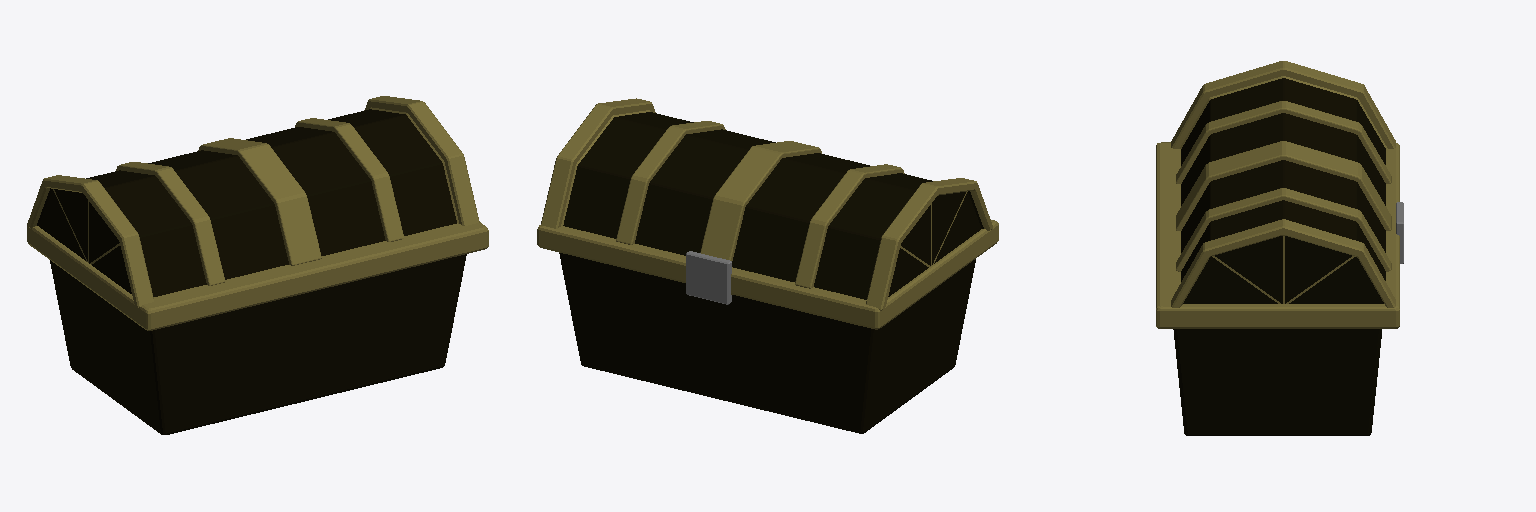
File: chest.obj
3 views of the same model, side by side, from view 1: azimuth 30°, elevation 25°; view 2: azimuth 150°, elevation 25°; view 3: azimuth 270°, elevation 25° (orthographic).
Visible parts, largest first — view 1: pCube88, pCylinder26 chest; view 2: pCylinder26 chest, pCube88, chest pCube50; view 3: pCylinder26 chest, pCube88.
Boxes of the visible parts, x1,y1,x2,y2 form: pCube88: [27, 222, 488, 434]; pCylinder26 chest: [27, 96, 479, 307]; pCylinder26 chest: [541, 98, 992, 310]; pCube88: [537, 220, 998, 433]; chest pCube50: [686, 251, 731, 304]; pCylinder26 chest: [1171, 61, 1395, 307]; pCube88: [1156, 142, 1399, 435].
Bounding box in the file's own units: 2.01 × 1.25 × 1.25.